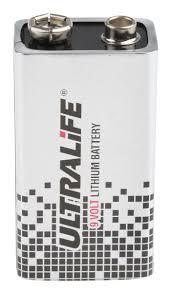9V Battery: (14, 12, 159, 282)
